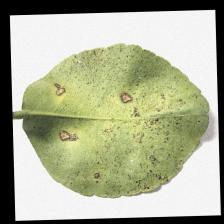canker: (44, 70, 184, 188)
